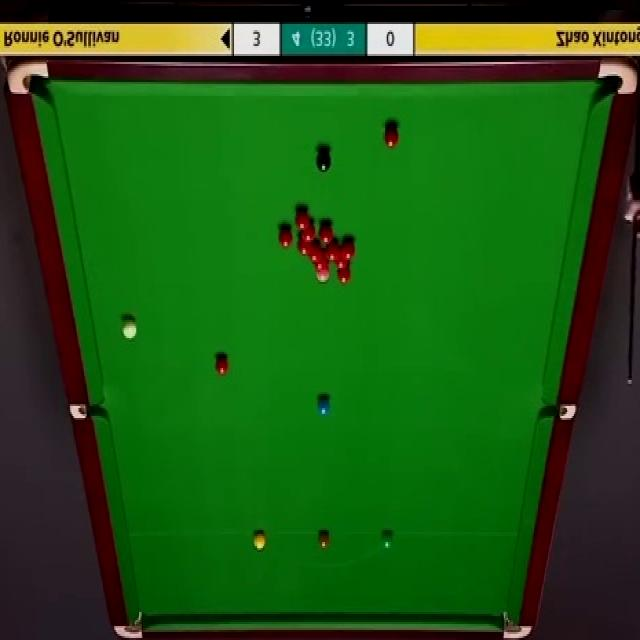pocket: (595, 55, 639, 100), (5, 55, 51, 97), (109, 606, 145, 640), (501, 608, 530, 640), (68, 402, 102, 422), (537, 405, 573, 420)
